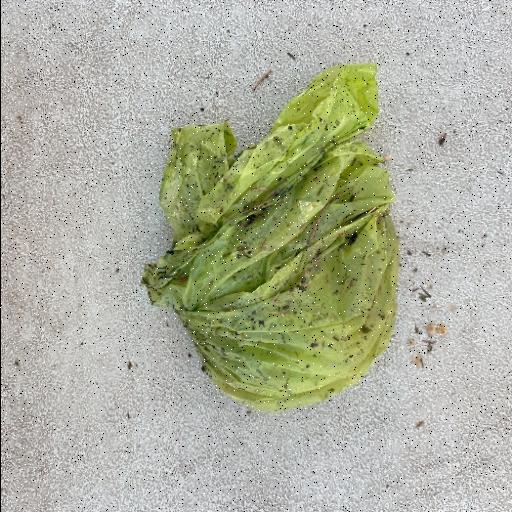Waste: (140, 62, 400, 414)
